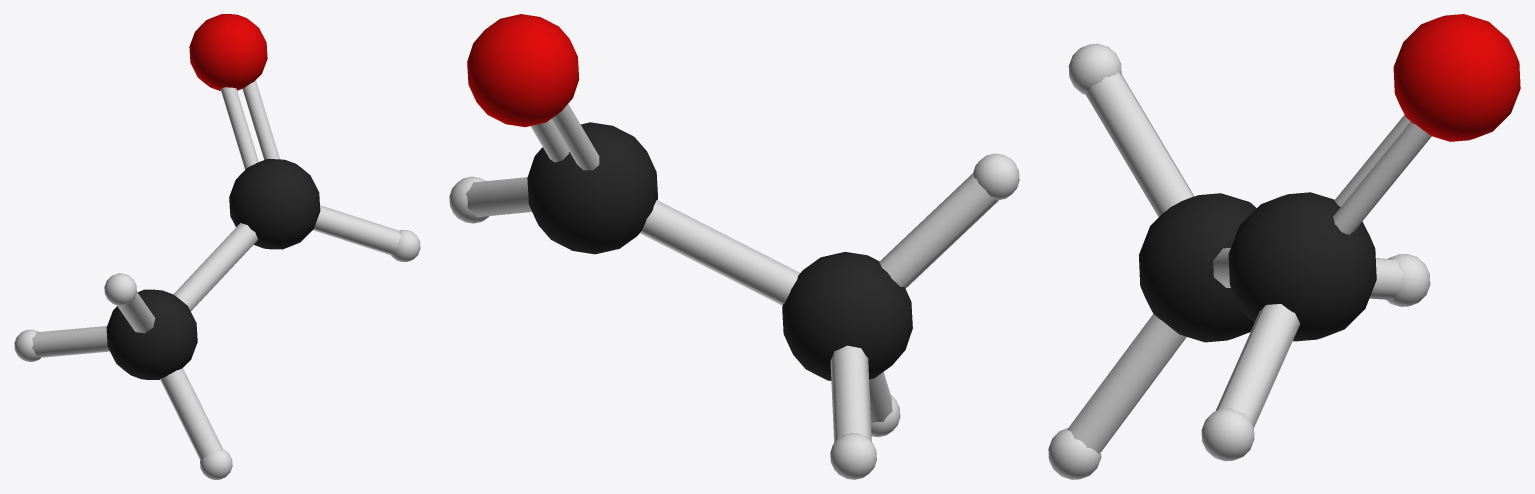
The model's file is acetaldehyde.fbx.
The picture shows the model from 3 angles, left to right: view 1: azimuth 30°, elevation 25°; view 2: azimuth 150°, elevation 25°; view 3: azimuth 270°, elevation 25°; orthographic projection. The views are drawn at different scales.
Visible parts, largest first — view 1: Group1, Group2, Group3, Group8, Group12, Group11, Group14, Group9, Group10, Group6, Group13, Group5 (+2 smaller); view 2: Group2, Group1, Group3, Group8, Group13, Group14, Group11, Group7, Group6, Group9, Group12, Group4 (+1 smaller); view 3: Group1, Group3, Group2, Group13, Group12, Group11, Group10, Group4, Group5, Group6, Group7, Group9 (+2 smaller).
Boxes of the visible parts, x1,y1,x2,y2 form: Group1: (229,159,320,249); Group2: (106,289,197,379); Group3: (189,14,267,90); Group8: (173,223,257,311); Group12: (160,368,223,459); Group11: (313,205,401,255); Group14: (32,326,109,357); Group9: (220,87,258,169); Group10: (242,80,279,159); Group6: (104,273,136,305); Group13: (117,292,155,333); Group5: (200,449,232,479); Group2: (782,252,912,380); Group1: (527,122,657,254); Group3: (467,14,579,127); Group8: (640,200,799,305); Group13: (879,173,998,288); Group14: (830,345,871,442); Group11: (466,177,531,217); Group7: (830,433,876,479); Group6: (973,153,1019,200); Group9: (550,104,599,170); Group12: (869,372,892,422); Group4: (449,176,489,223); Group1: (1228,192,1376,341); Group3: (1393,14,1520,141); Group2: (1139,193,1256,342); Group13: (1084,72,1194,216); Group12: (1067,314,1186,453); Group11: (1215,304,1299,427); Group10: (1333,122,1431,234); Group4: (1201,408,1254,461); Group5: (1048,428,1101,479); Group6: (1068,43,1121,94); Group7: (1386,254,1430,306); Group9: (1334,115,1410,206).
Bounding box in the file's own units: 242 × 226 × 173.
